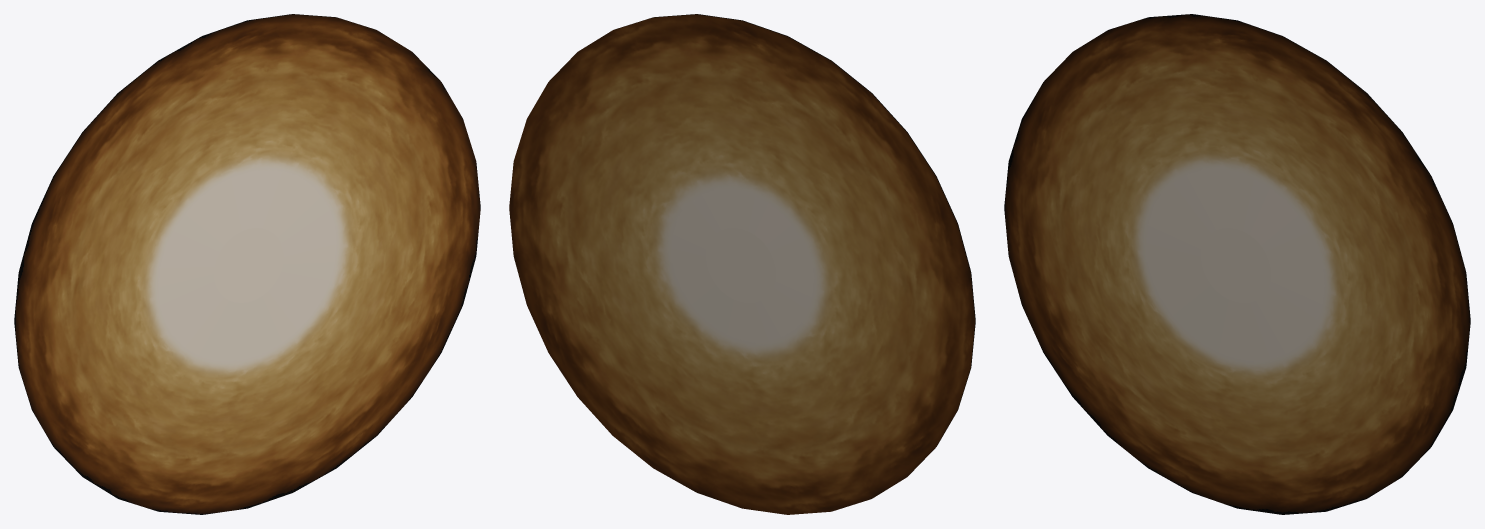
Rendered from BlackHoleRingVert.fbx.
3 renders of one model, left to right at view 1: azimuth 30°, elevation 25°; view 2: azimuth 150°, elevation 25°; view 3: azimuth 330°, elevation 25°, orthographic.
Parts seen in each view (by area): view 1: RingVerticle; view 2: RingVerticle; view 3: RingVerticle.
Part boxes in pixels (x1,y1,x2,y2): RingVerticle: (14, 14, 480, 514); RingVerticle: (509, 14, 975, 514); RingVerticle: (1004, 14, 1470, 514).
Size of the model in its own units: 69.5 by 69.5 by 0.7132.
